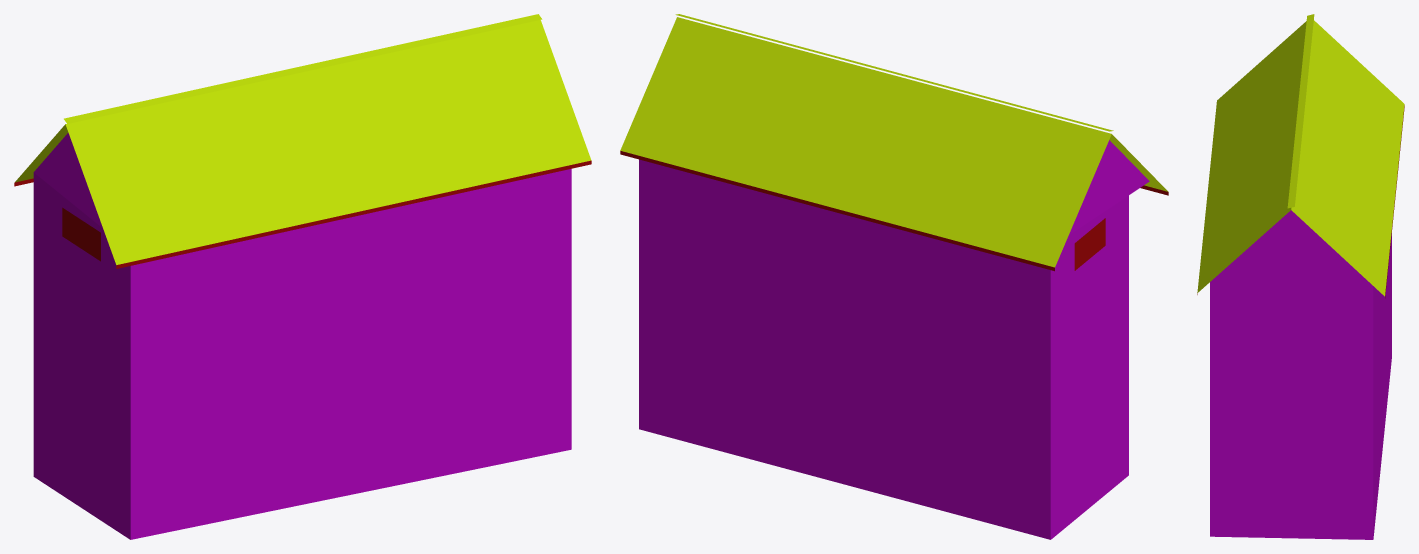
Rendered from bgj_348.glb.
3 renders of one model, left to right at view 1: azimuth 30°, elevation 25°; view 2: azimuth 150°, elevation 25°; view 3: azimuth 270°, elevation 25°, orthographic. The views are drawn at different scales.
Visible parts, largest first — view 1: bgj_348; view 2: bgj_348; view 3: bgj_348.
Boxes of the visible parts, bbox=[...] form: bgj_348: bbox=[14, 14, 591, 539]; bgj_348: bbox=[620, 14, 1168, 539]; bgj_348: bbox=[1197, 14, 1404, 539].
Bounding box in the file's own units: 15.34 × 12.28 × 6.85.
